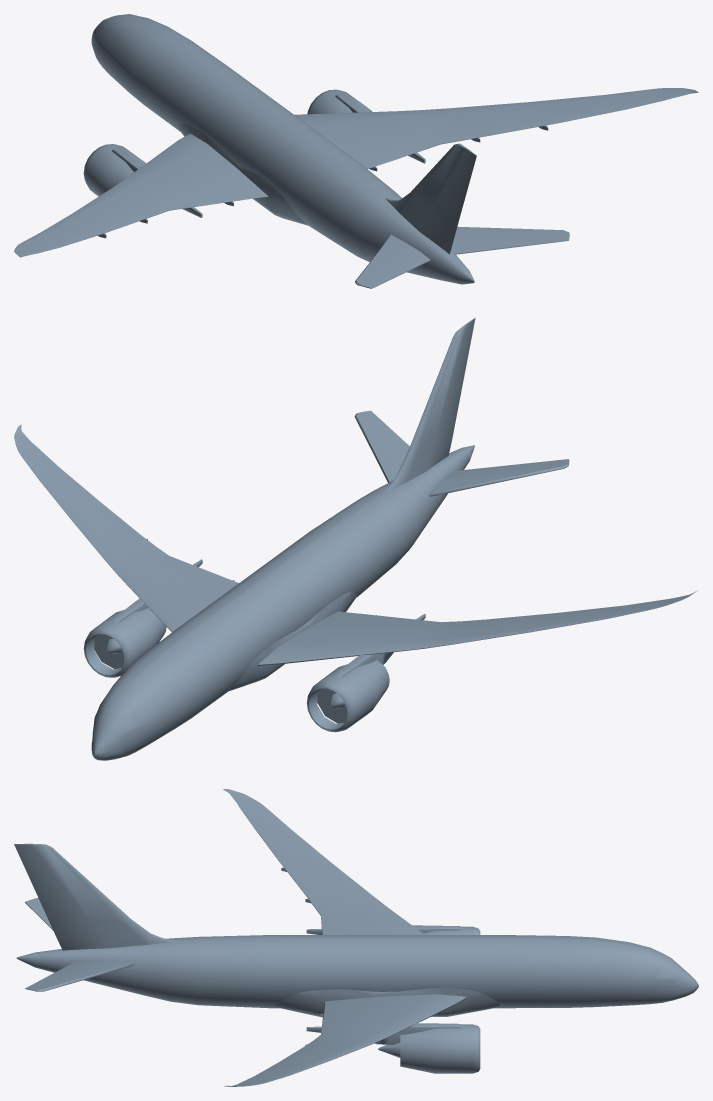
The picture shows the model from 3 angles, top to bottom: view 1: azimuth 30°, elevation 25°; view 2: azimuth 150°, elevation 25°; view 3: azimuth 270°, elevation 25°; orthographic projection. The views are drawn at different scales.
Parts seen in each view (by area): view 1: body; view 2: body; view 3: body.
Boxes of the visible parts, box(x1,y1,x2,y2) form: body: box(14, 14, 698, 288); body: box(14, 317, 697, 760); body: box(14, 789, 698, 1086).
Bounding box in the file's own units: 58 × 16.32 × 56.58.
